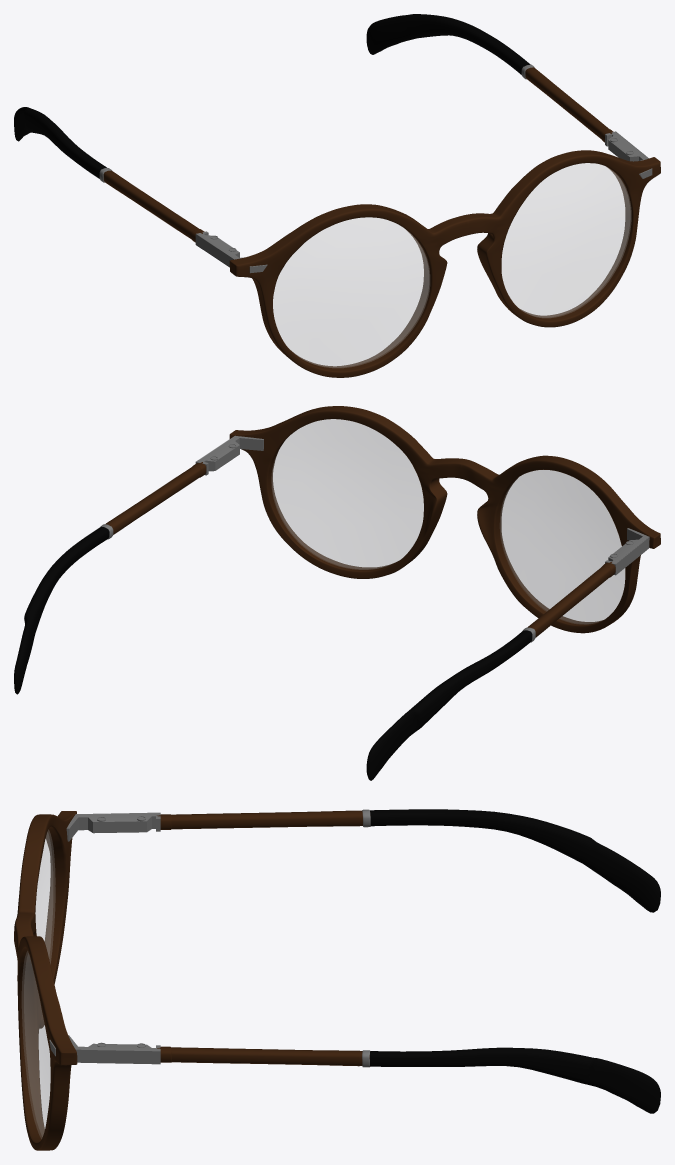
File: glasses 2.glb
The picture shows the model from 3 angles, top to bottom: view 1: azimuth 30°, elevation 25°; view 2: azimuth 150°, elevation 25°; view 3: azimuth 270°, elevation 25°; orthographic projection. The views are drawn at different scales.
Parts seen in each view (by area): view 1: Glasses 2; view 2: Glasses 2; view 3: Glasses 2.
Boxes of the visible parts, x1,y1,x2,y2 form: Glasses 2: (14,14,660,377); Glasses 2: (14,406,660,780); Glasses 2: (14,809,660,1150).
Bounding box in the file's own units: 0.1627 × 0.0594 × 0.1803.
